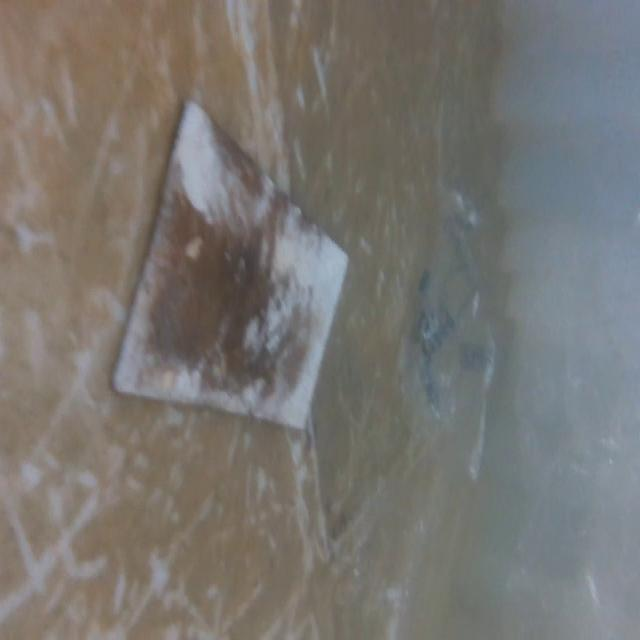metal: (106, 100, 348, 445)
plastic bags: (404, 197, 506, 484)
